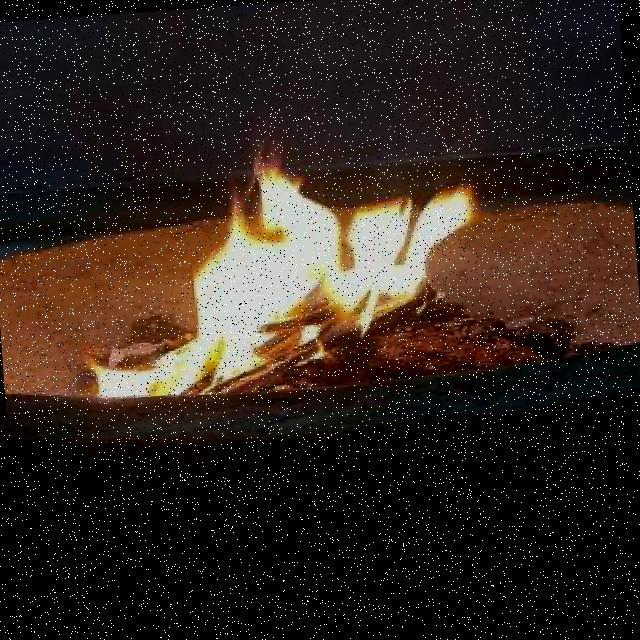Fire: (63, 116, 503, 411)
